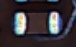COMP: (9, 10, 64, 37)
STAN: (61, 9, 76, 36), (30, 33, 65, 42)
